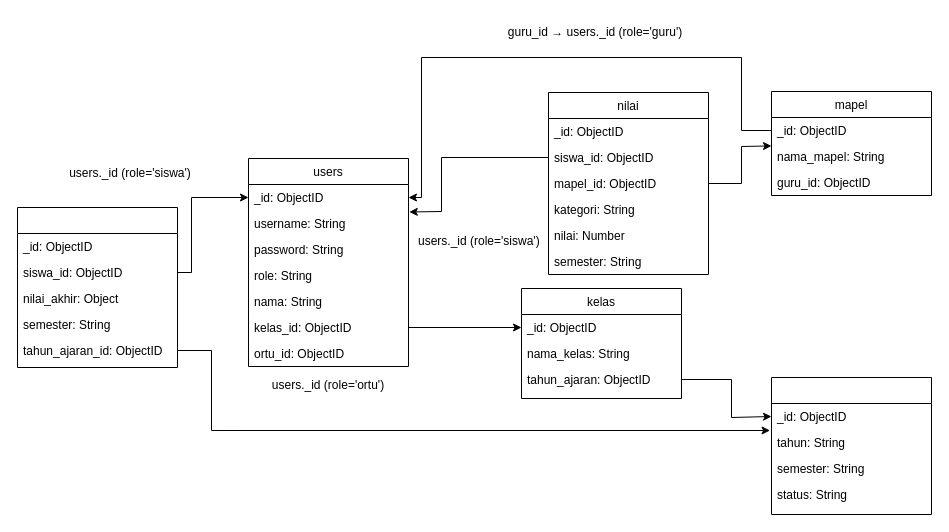
Image size: 949x532. Some labels were removed from this diagram. The shapes that lost their labels are listed below. From the top down, each one's box as (x1, y1, x2, y2) in pixels, then its label:
(16, 206, 178, 368): rapor
(770, 376, 932, 514): tahun_ajaran
